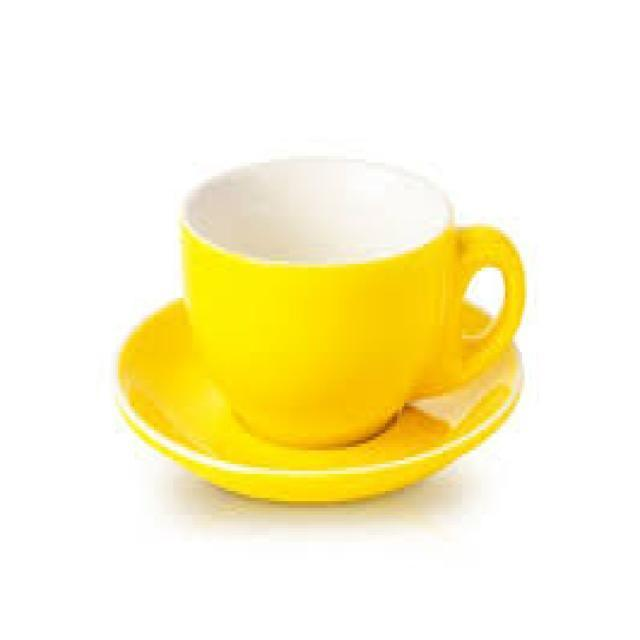taza: (160, 124, 537, 466)
